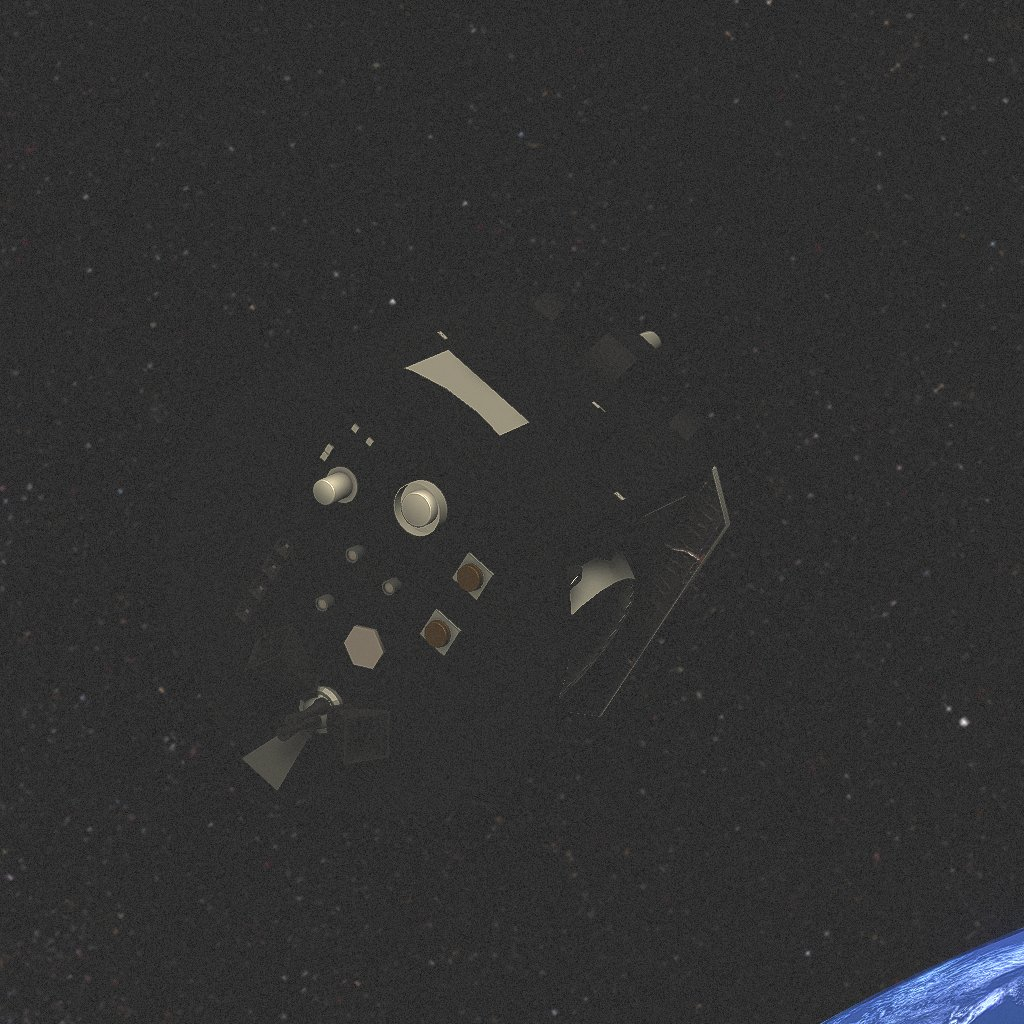proba_3_ocs: (163, 282, 730, 818)
